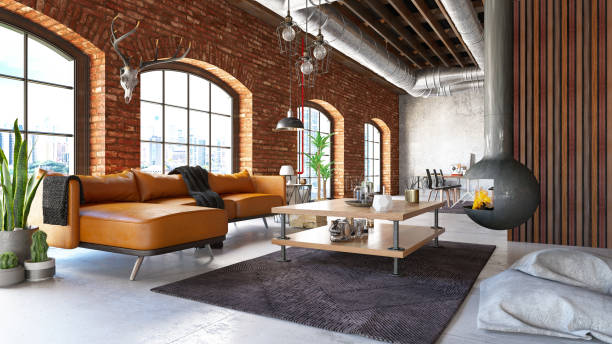large plant: (0, 119, 45, 252), (309, 129, 336, 198)
small plant: (26, 227, 56, 283), (0, 249, 25, 288)
sofa: (33, 168, 288, 282)
table: (270, 191, 445, 276)
